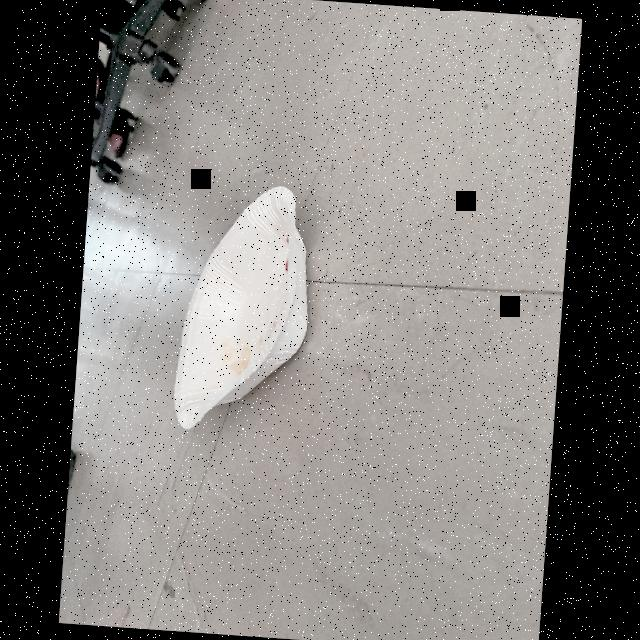cardboard_bowl: (165, 170, 320, 442)
